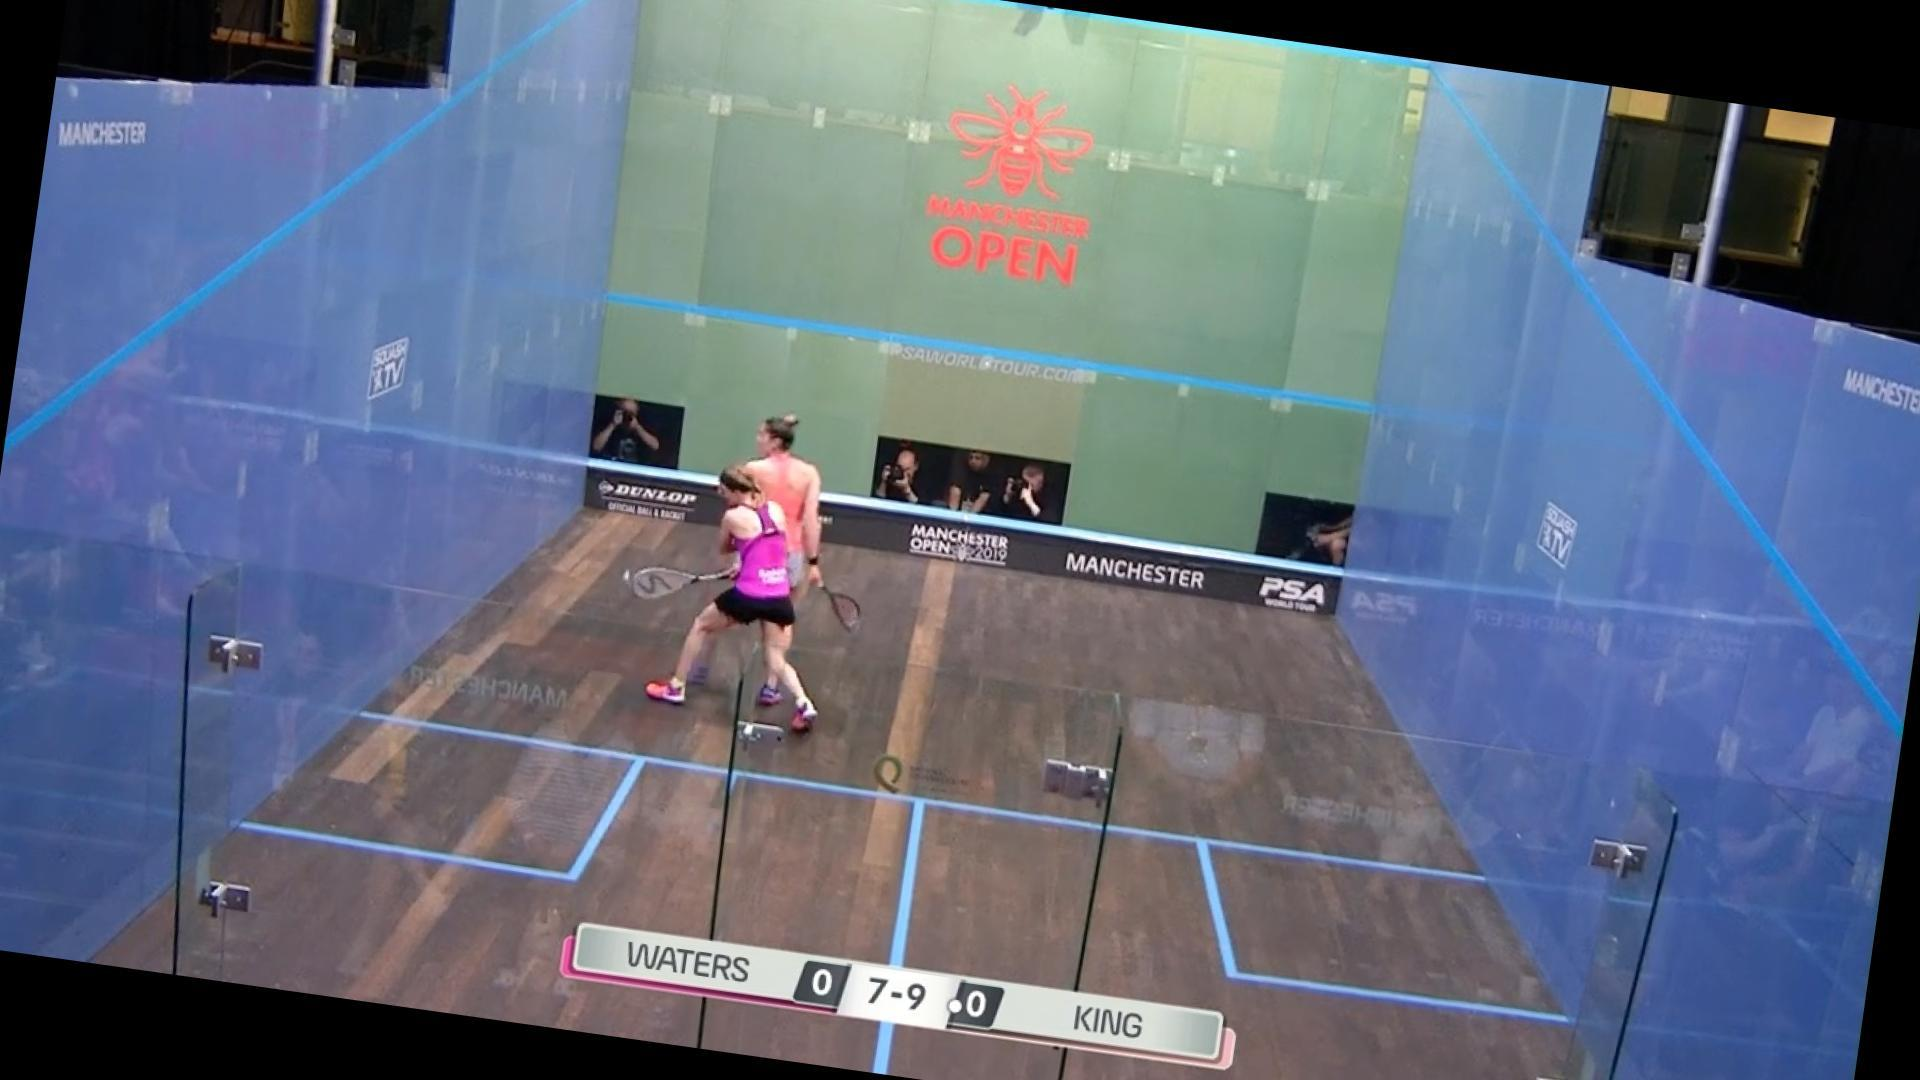Squash-Ball: (600, 535, 649, 611)
